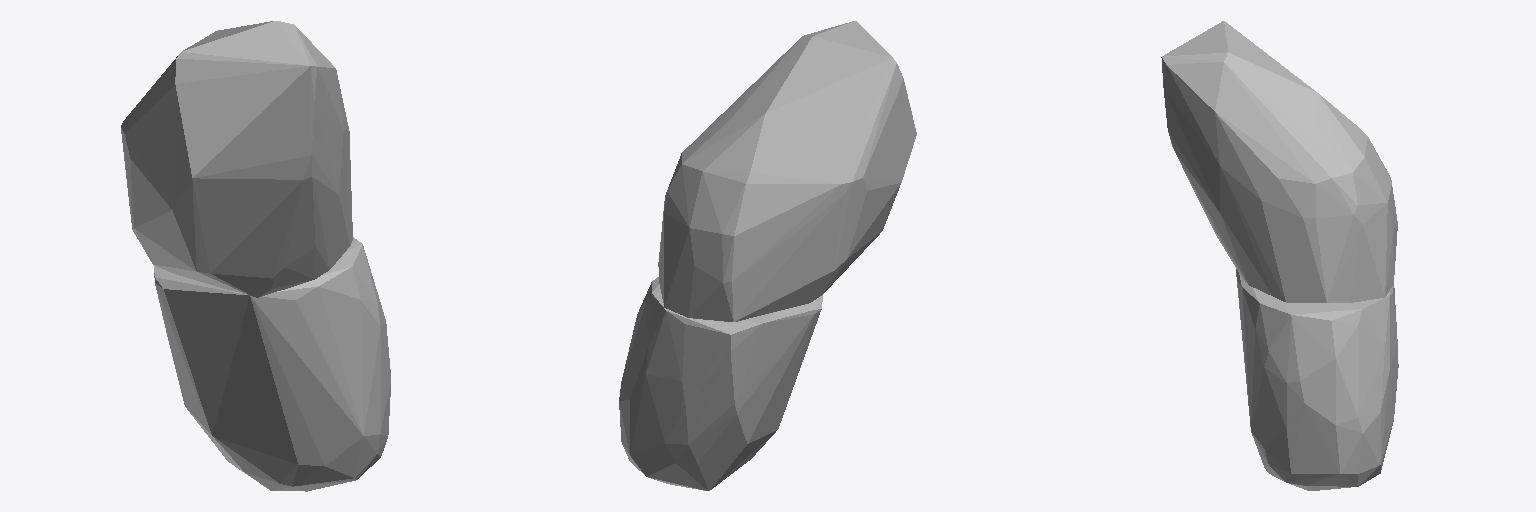
robot.urdf — root:
<robot name="root">
  <link name="link_ycb~041_small_marker_convex_piece_0">
    <inertial>
      <origin xyz="0 0 0" rpy="0 0 0"/>
      <mass value="1.08E-01"/>
      <inertia ixx="4.30E-05" ixy="-4.19E-06" ixz="8.88E-06" iyy="4.16E-05" iyz="9.68E-06" izz="1.97E-05"/>
    </inertial>
    <visual>
      <origin xyz="0 0 0" rpy="0 0 0"/>
      <geometry>
        <mesh filename="ycb~041_small_marker_convex_piece_0.obj" scale="1.0000E+00 1.0000E+00 1.0000E+00"/>
      </geometry>
      <material name="">
        <color rgba="7.50E-01 7.50E-01 7.50E-01 1"/>
      </material>
    </visual>
    <collision>
      <origin xyz="0 0 0" rpy="0 0 0"/>
      <geometry>
        <mesh filename="ycb~041_small_marker_convex_piece_0.obj" scale="1.0000E+00 1.0000E+00 1.0000E+00"/>
      </geometry>
    </collision>
  </link>
  <link name="link_ycb~041_small_marker_convex_piece_1">
    <inertial>
      <origin xyz="0 0 0" rpy="0 0 0"/>
      <mass value="7.47E-02"/>
      <inertia ixx="4.21E-05" ixy="-1.81E-06" ixz="1.04E-05" iyy="4.42E-05" iyz="6.55E-06" izz="1.13E-05"/>
    </inertial>
    <visual>
      <origin xyz="0 0 0" rpy="0 0 0"/>
      <geometry>
        <mesh filename="ycb~041_small_marker_convex_piece_1.obj" scale="1.0000E+00 1.0000E+00 1.0000E+00"/>
      </geometry>
      <material name="">
        <color rgba="7.50E-01 7.50E-01 7.50E-01 1"/>
      </material>
    </visual>
    <collision>
      <origin xyz="0 0 0" rpy="0 0 0"/>
      <geometry>
        <mesh filename="ycb~041_small_marker_convex_piece_1.obj" scale="1.0000E+00 1.0000E+00 1.0000E+00"/>
      </geometry>
    </collision>
  </link>
  <joint name="link_ycb~041_small_marker_convex_piece_1_joint" type="fixed">
    <origin xyz="0 0 0" rpy="0 0 0"/>
    <parent link="link_ycb~041_small_marker_convex_piece_0"/>
    <child link="link_ycb~041_small_marker_convex_piece_1"/>
  </joint>
</robot>

--- Render facts (derived) ---
Views: 3 orthographic renders of the robot side by side, from view 1: azimuth 30°, elevation 25°; view 2: azimuth 150°, elevation 25°; view 3: azimuth 270°, elevation 25°.
Robot: root — 2 links, 1 joints (1 fixed); root link link_ycb~041_small_marker_convex_piece_0; default pose: every joint at zero.
Visible links, largest first — view 1: link_ycb~041_small_marker_convex_piece_0, link_ycb~041_small_marker_convex_piece_1; view 2: link_ycb~041_small_marker_convex_piece_0, link_ycb~041_small_marker_convex_piece_1; view 3: link_ycb~041_small_marker_convex_piece_0, link_ycb~041_small_marker_convex_piece_1.
Link boxes in pixels (x1,y1,x2,y2): link_ycb~041_small_marker_convex_piece_0: (121, 21, 352, 297); link_ycb~041_small_marker_convex_piece_1: (154, 237, 390, 491); link_ycb~041_small_marker_convex_piece_0: (658, 21, 916, 321); link_ycb~041_small_marker_convex_piece_1: (619, 277, 822, 490); link_ycb~041_small_marker_convex_piece_0: (1161, 21, 1397, 302); link_ycb~041_small_marker_convex_piece_1: (1236, 269, 1398, 490).
Bounding box of the posed robot: 0.0427 × 0.0428 × 0.0798 m (x, y, z).
Meshes: 2 distinct files referenced, 2 mesh visuals loaded (2 OBJ).